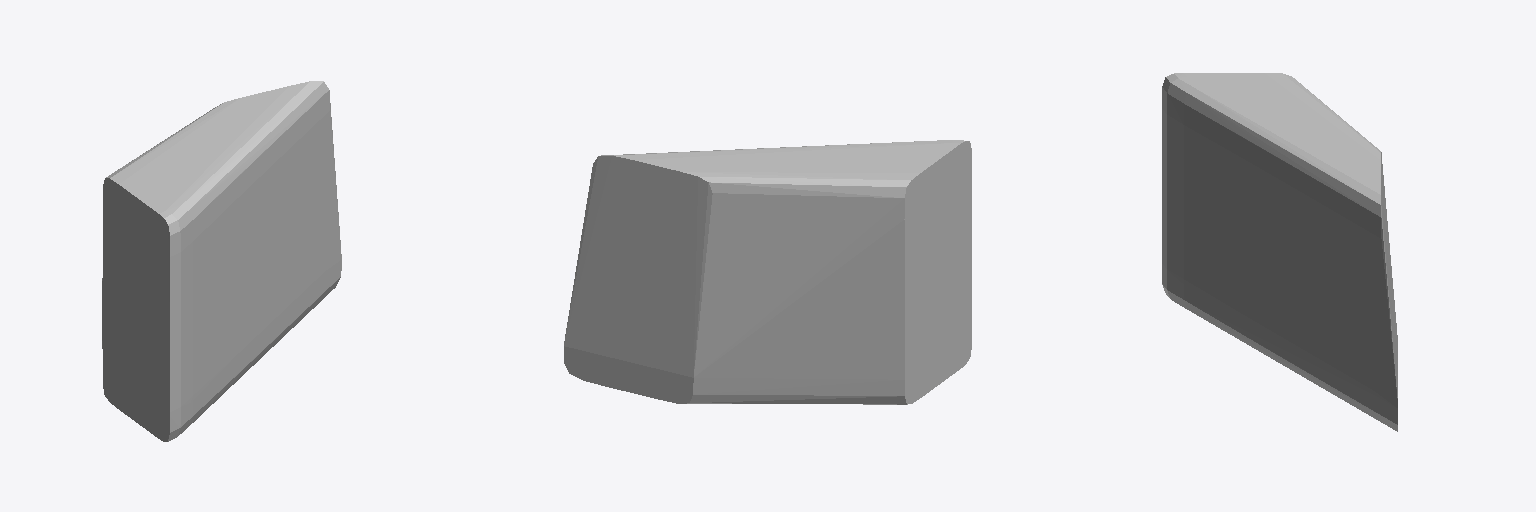
The model's file is pentagon_collision_4.obj.
The picture shows the model from 3 angles: view 1: azimuth 30°, elevation 25°; view 2: azimuth 150°, elevation 25°; view 3: azimuth 270°, elevation 25°; orthographic projection.
Bounding box in the file's own units: 0.0089 × 0.0066 × 0.0063.